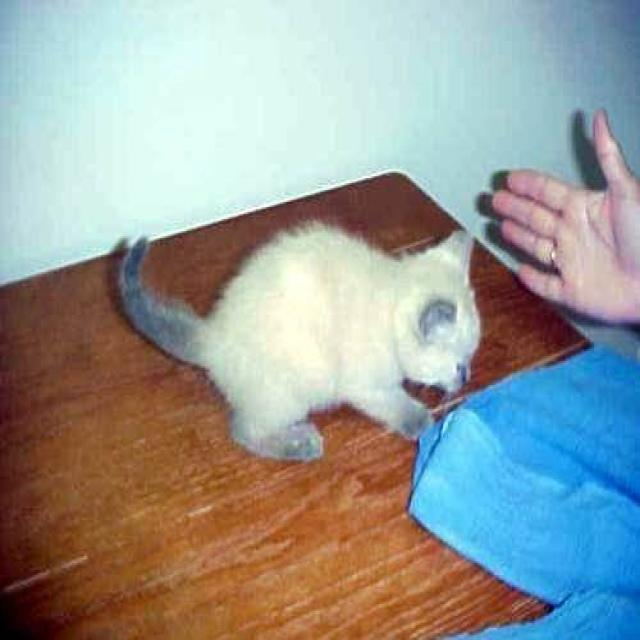cat: (114, 217, 481, 464)
